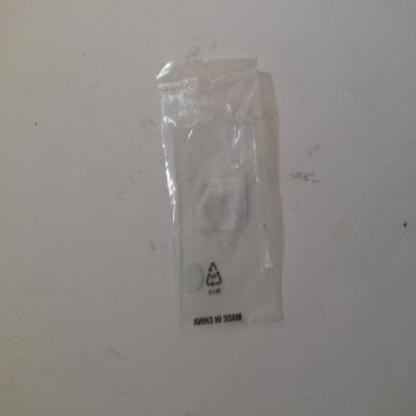trash: (155, 56, 288, 329)
